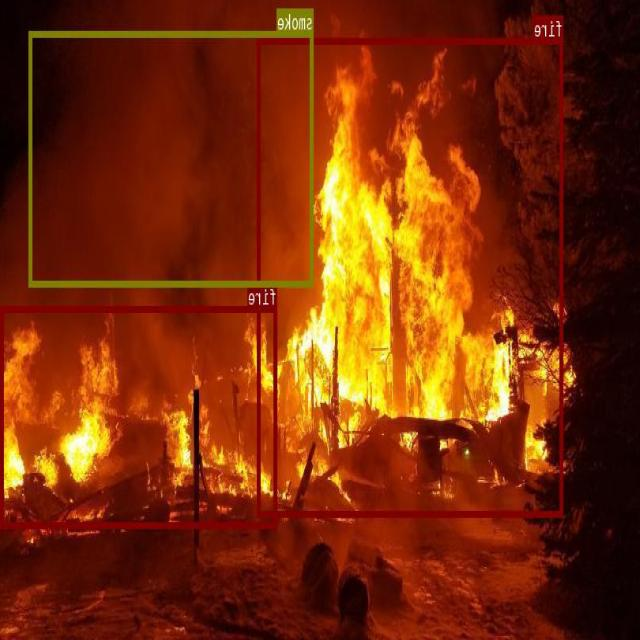fire: (258, 37, 564, 516), (1, 305, 278, 526)
smoke: (30, 31, 314, 286)
